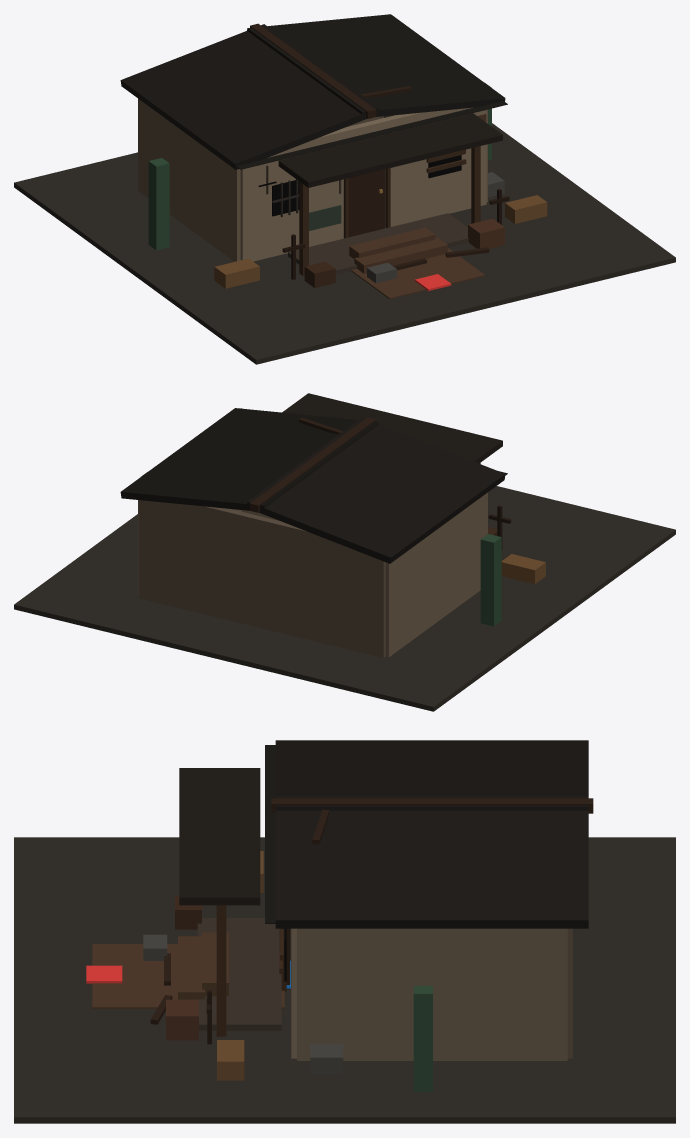
Rendered from pensao_santa_luzia_exterior_blockout.glb.
3 renders of one model, top to bottom at view 1: azimuth 30°, elevation 25°; view 2: azimuth 150°, elevation 25°; view 3: azimuth 270°, elevation 25°, orthographic. The views are drawn at different scales.
Visible parts, largest first — view 1: exterior_ground_base, roof_left_slope, roof_right_slope, house_left_wall, porch_roof, house_front_wall_left, house_front_wall_right, porch_floor, front_dirt_path, main_door_01, front_cactus_left_main, roof_front_eave (+11 smaller); view 2: exterior_ground_base, house_back_wall, roof_left_slope, roof_right_slope, house_left_wall, porch_roof, front_cactus_left_main, roof_ridge_beam, front_dry_bush_01; view 3: exterior_ground_base, roof_right_slope, house_right_wall, roof_left_slope, porch_roof, porch_floor, front_dirt_path, roof_ridge_beam, front_cactus_right_main, roof_front_eave, porch_step_01, porch_post_right (+9 smaller).
Boxes of the visible parts, x1=… form: exterior_ground_base: x1=14, y1=123, x2=675, y2=364; roof_left_slope: x1=120, y1=24, x2=379, y2=169; roof_right_slope: x1=247, y1=14, x2=505, y2=116; house_left_wall: x1=138, y1=98, x2=240, y2=261; porch_roof: x1=278, y1=113, x2=502, y2=187; house_front_wall_left: x1=240, y1=129, x2=343, y2=261; house_front_wall_right: x1=382, y1=107, x2=486, y2=227; porch_floor: x1=288, y1=213, x2=468, y2=274; front_dirt_path: x1=351, y1=248, x2=485, y2=299; main_door_01: x1=348, y1=169, x2=384, y2=237; front_cactus_left_main: x1=148, y1=158, x2=169, y2=250; roof_front_eave: x1=236, y1=101, x2=507, y2=169; exterior_ground_base: x1=14, y1=486, x2=675, y2=711; house_back_wall: x1=139, y1=500, x2=385, y2=657; roof_left_slope: x1=246, y1=418, x2=505, y2=563; roof_right_slope: x1=120, y1=408, x2=378, y2=511; house_left_wall: x1=385, y1=492, x2=487, y2=657; porch_roof: x1=282, y1=393, x2=502, y2=463; front_cactus_left_main: x1=480, y1=534, x2=501, y2=626; roof_ridge_beam: x1=250, y1=417, x2=376, y2=512; front_dry_bush_01: x1=501, y1=554, x2=545, y2=583; exterior_ground_base: x1=14, y1=837, x2=675, y2=1123; roof_right_slope: x1=275, y1=796, x2=588, y2=928; house_right_wall: x1=297, y1=928, x2=567, y2=1060; roof_left_slope: x1=275, y1=740, x2=588, y2=810; porch_roof: x1=179, y1=768, x2=260, y2=905; porch_floor: x1=197, y1=918, x2=281, y2=1030; front_dirt_path: x1=92, y1=944, x2=284, y2=1008; roof_ridge_beam: x1=271, y1=798, x2=593, y2=813; front_cactus_right_main: x1=413, y1=985, x2=432, y2=1091; roof_front_eave: x1=265, y1=745, x2=275, y2=923; porch_step_01: x1=178, y1=936, x2=204, y2=999; porch_post_right: x1=216, y1=905, x2=226, y2=1036.
Size of the model in its own units: 11 by 3.35 by 11.
